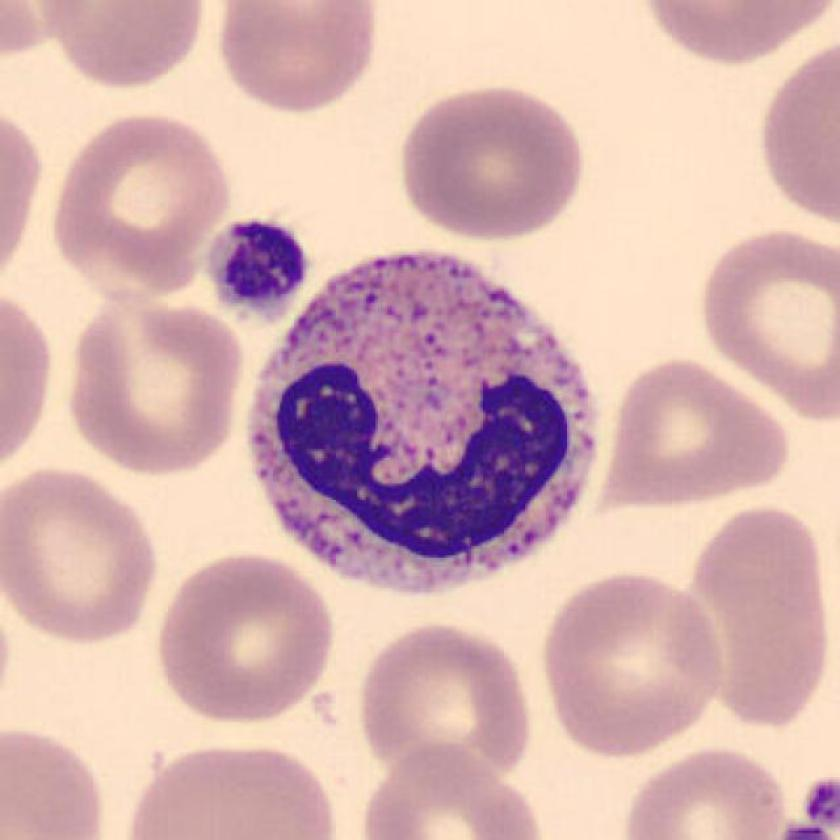neutrophil: (249, 253, 596, 596)
